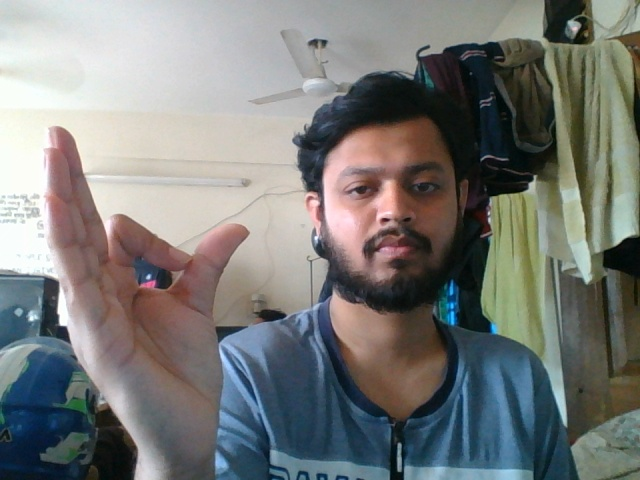uo: (37, 113, 268, 445)
